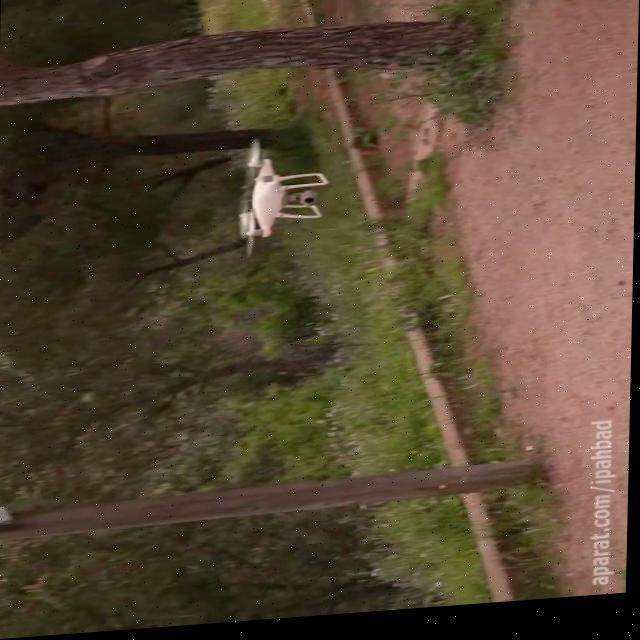drone: (235, 139, 326, 262)
